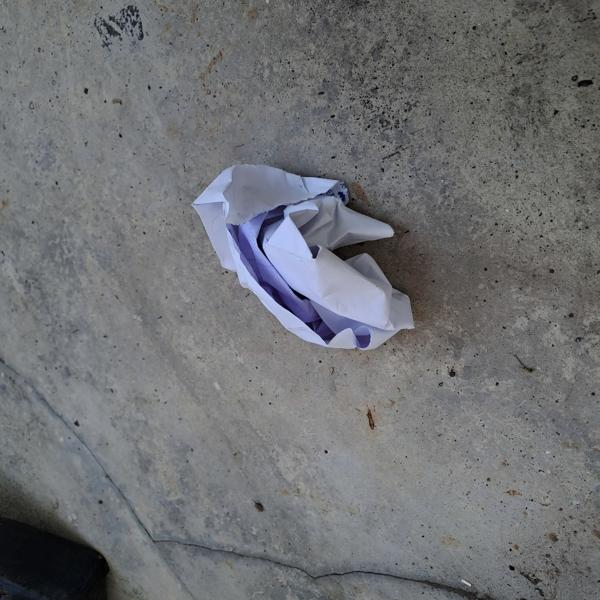Organik: (179, 139, 443, 380)
